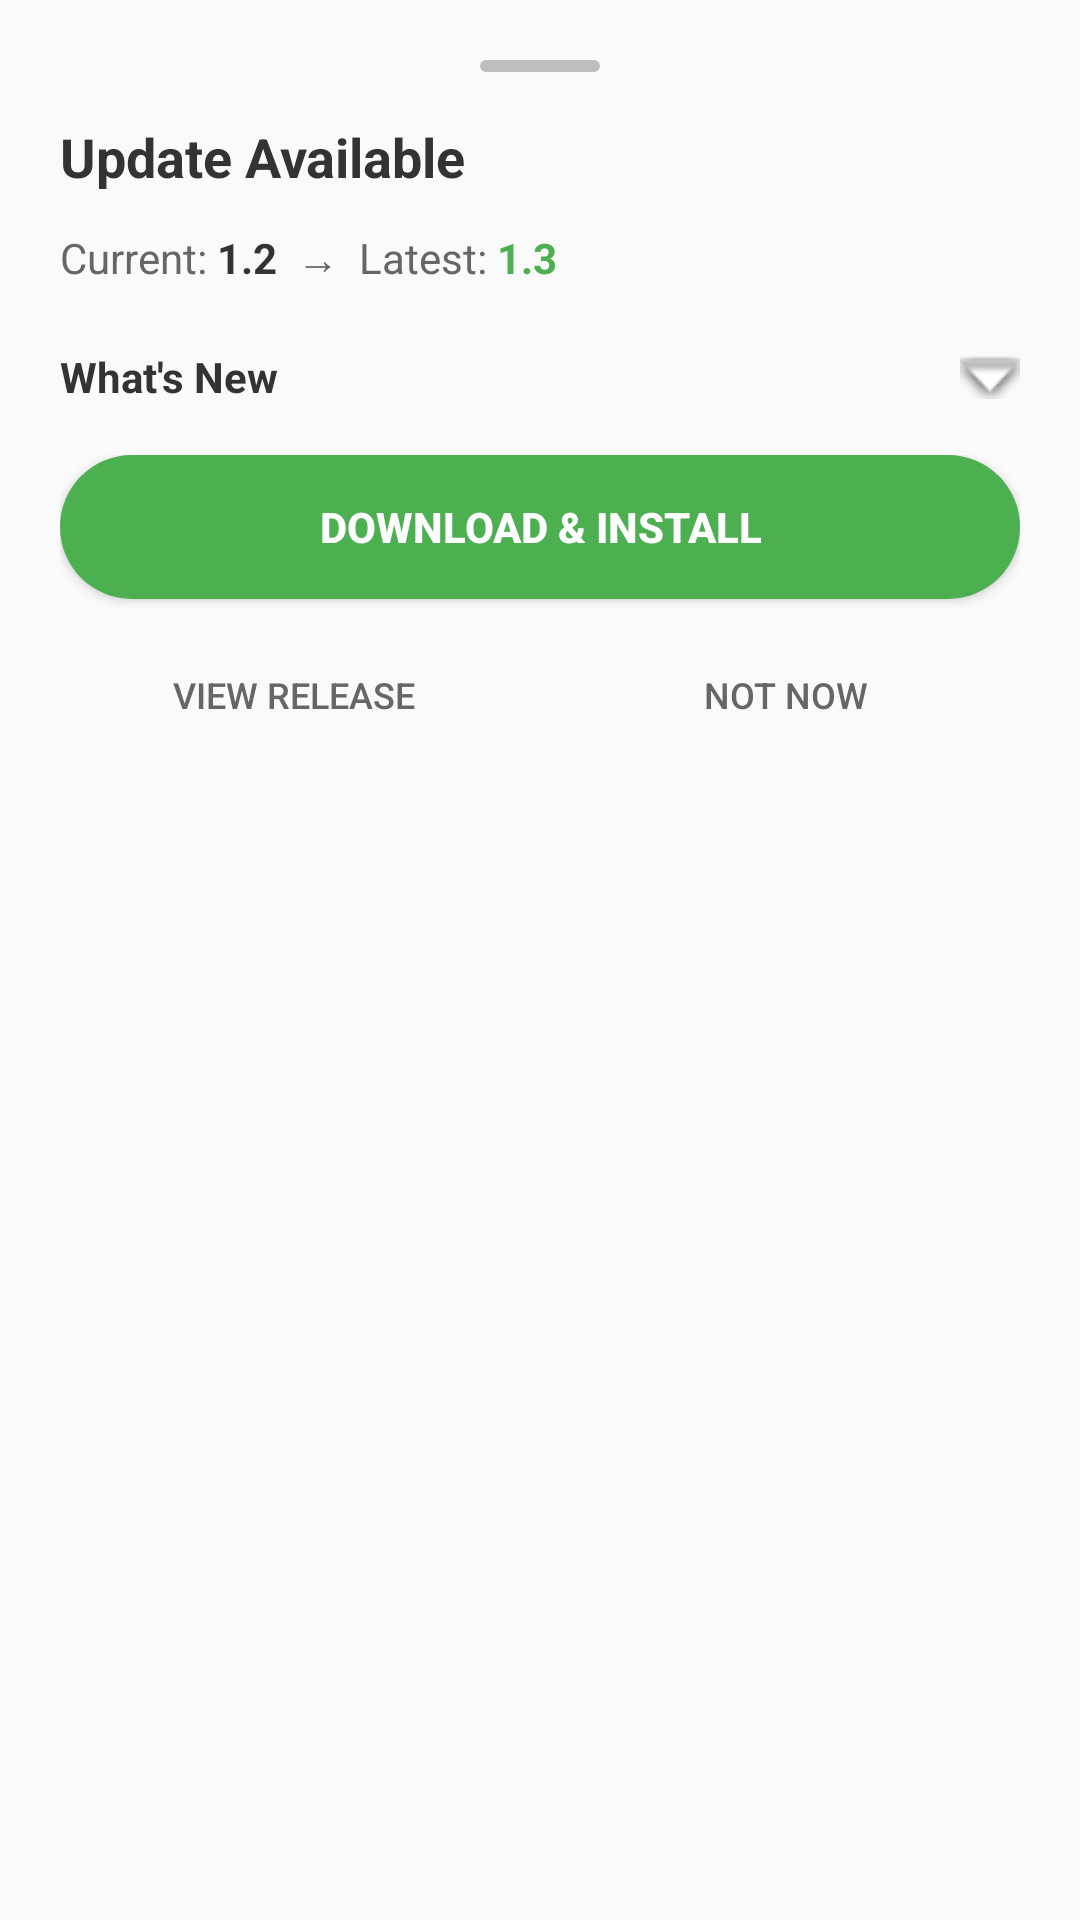

Icon bounding boxes for this 1080px×1920px phone screenshot, format box=[x1, y1, x2, y2]:
Expand: box=[960, 357, 1020, 398]
